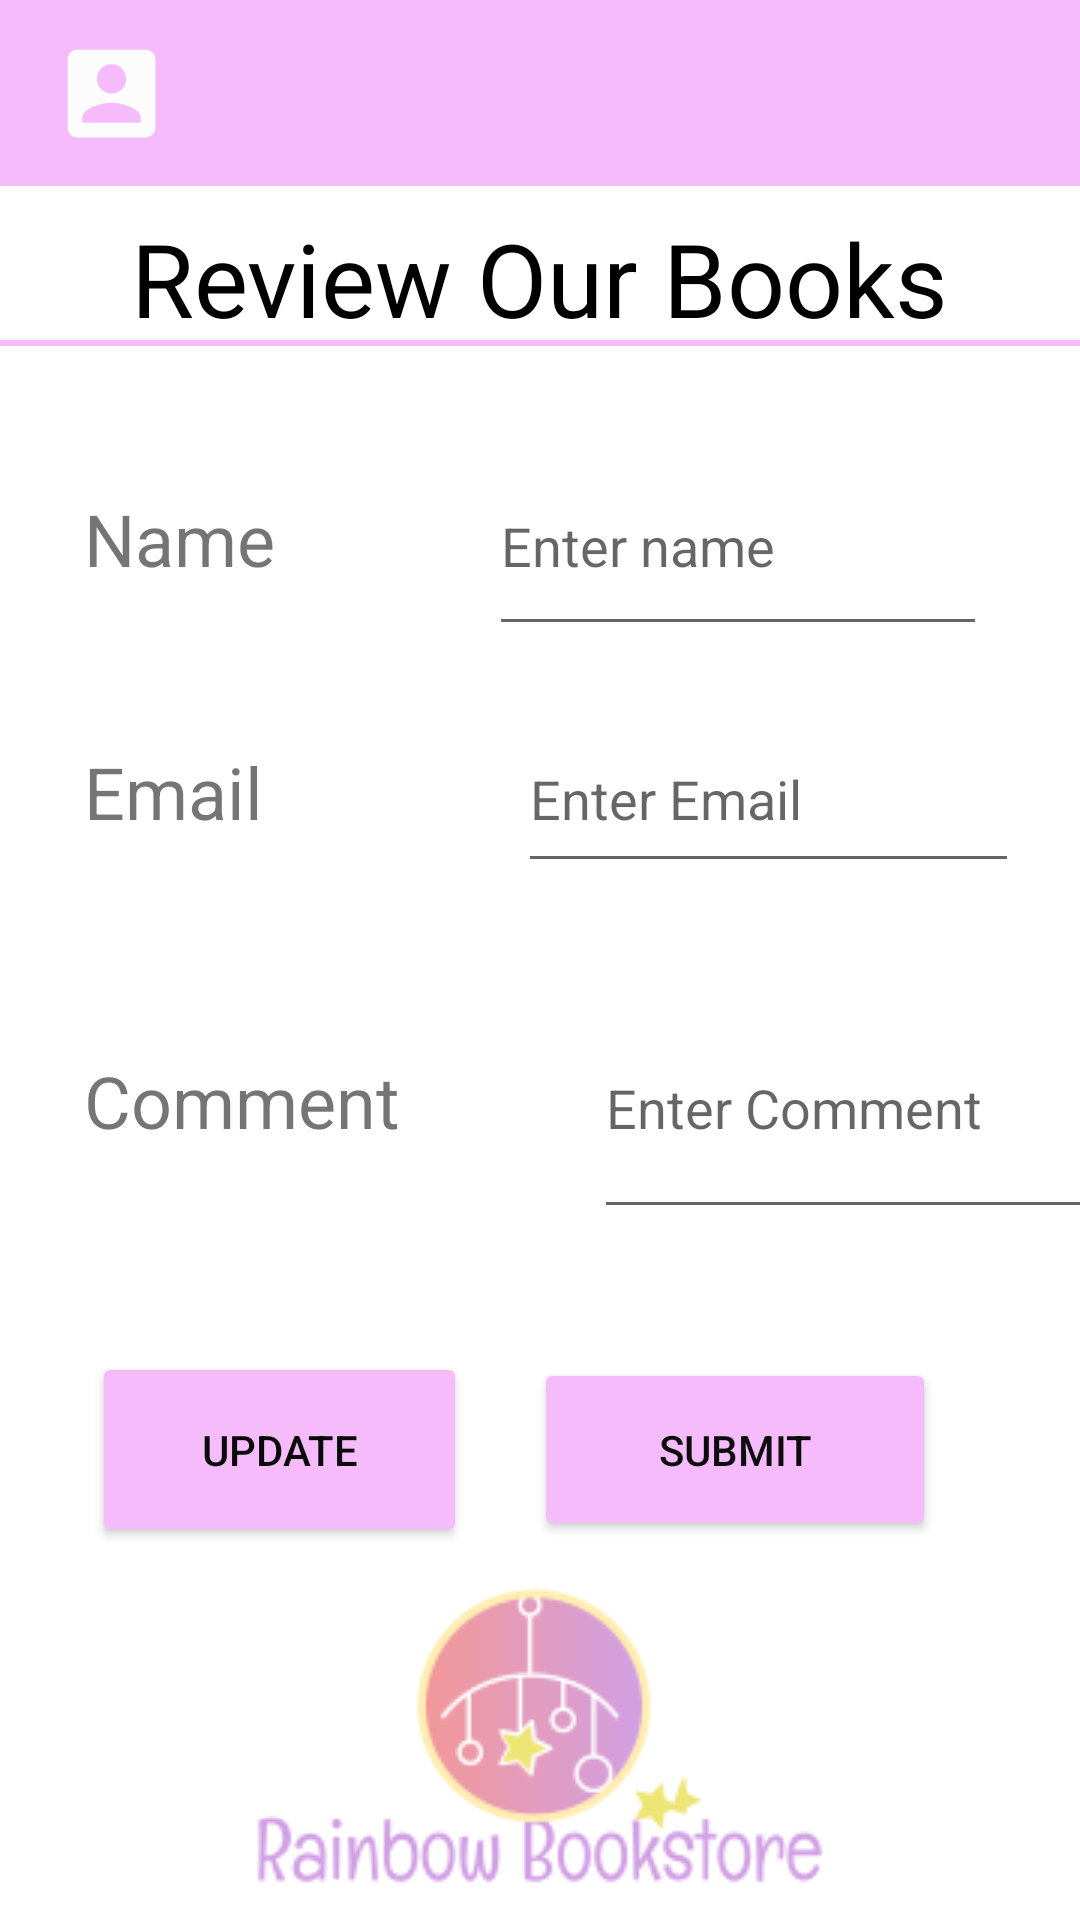

Locate icon controls on the screen. Image size 1080px×1920px, boxes as box=[x1, y1, x2, y2].
account box: box=[68, 50, 156, 138]
